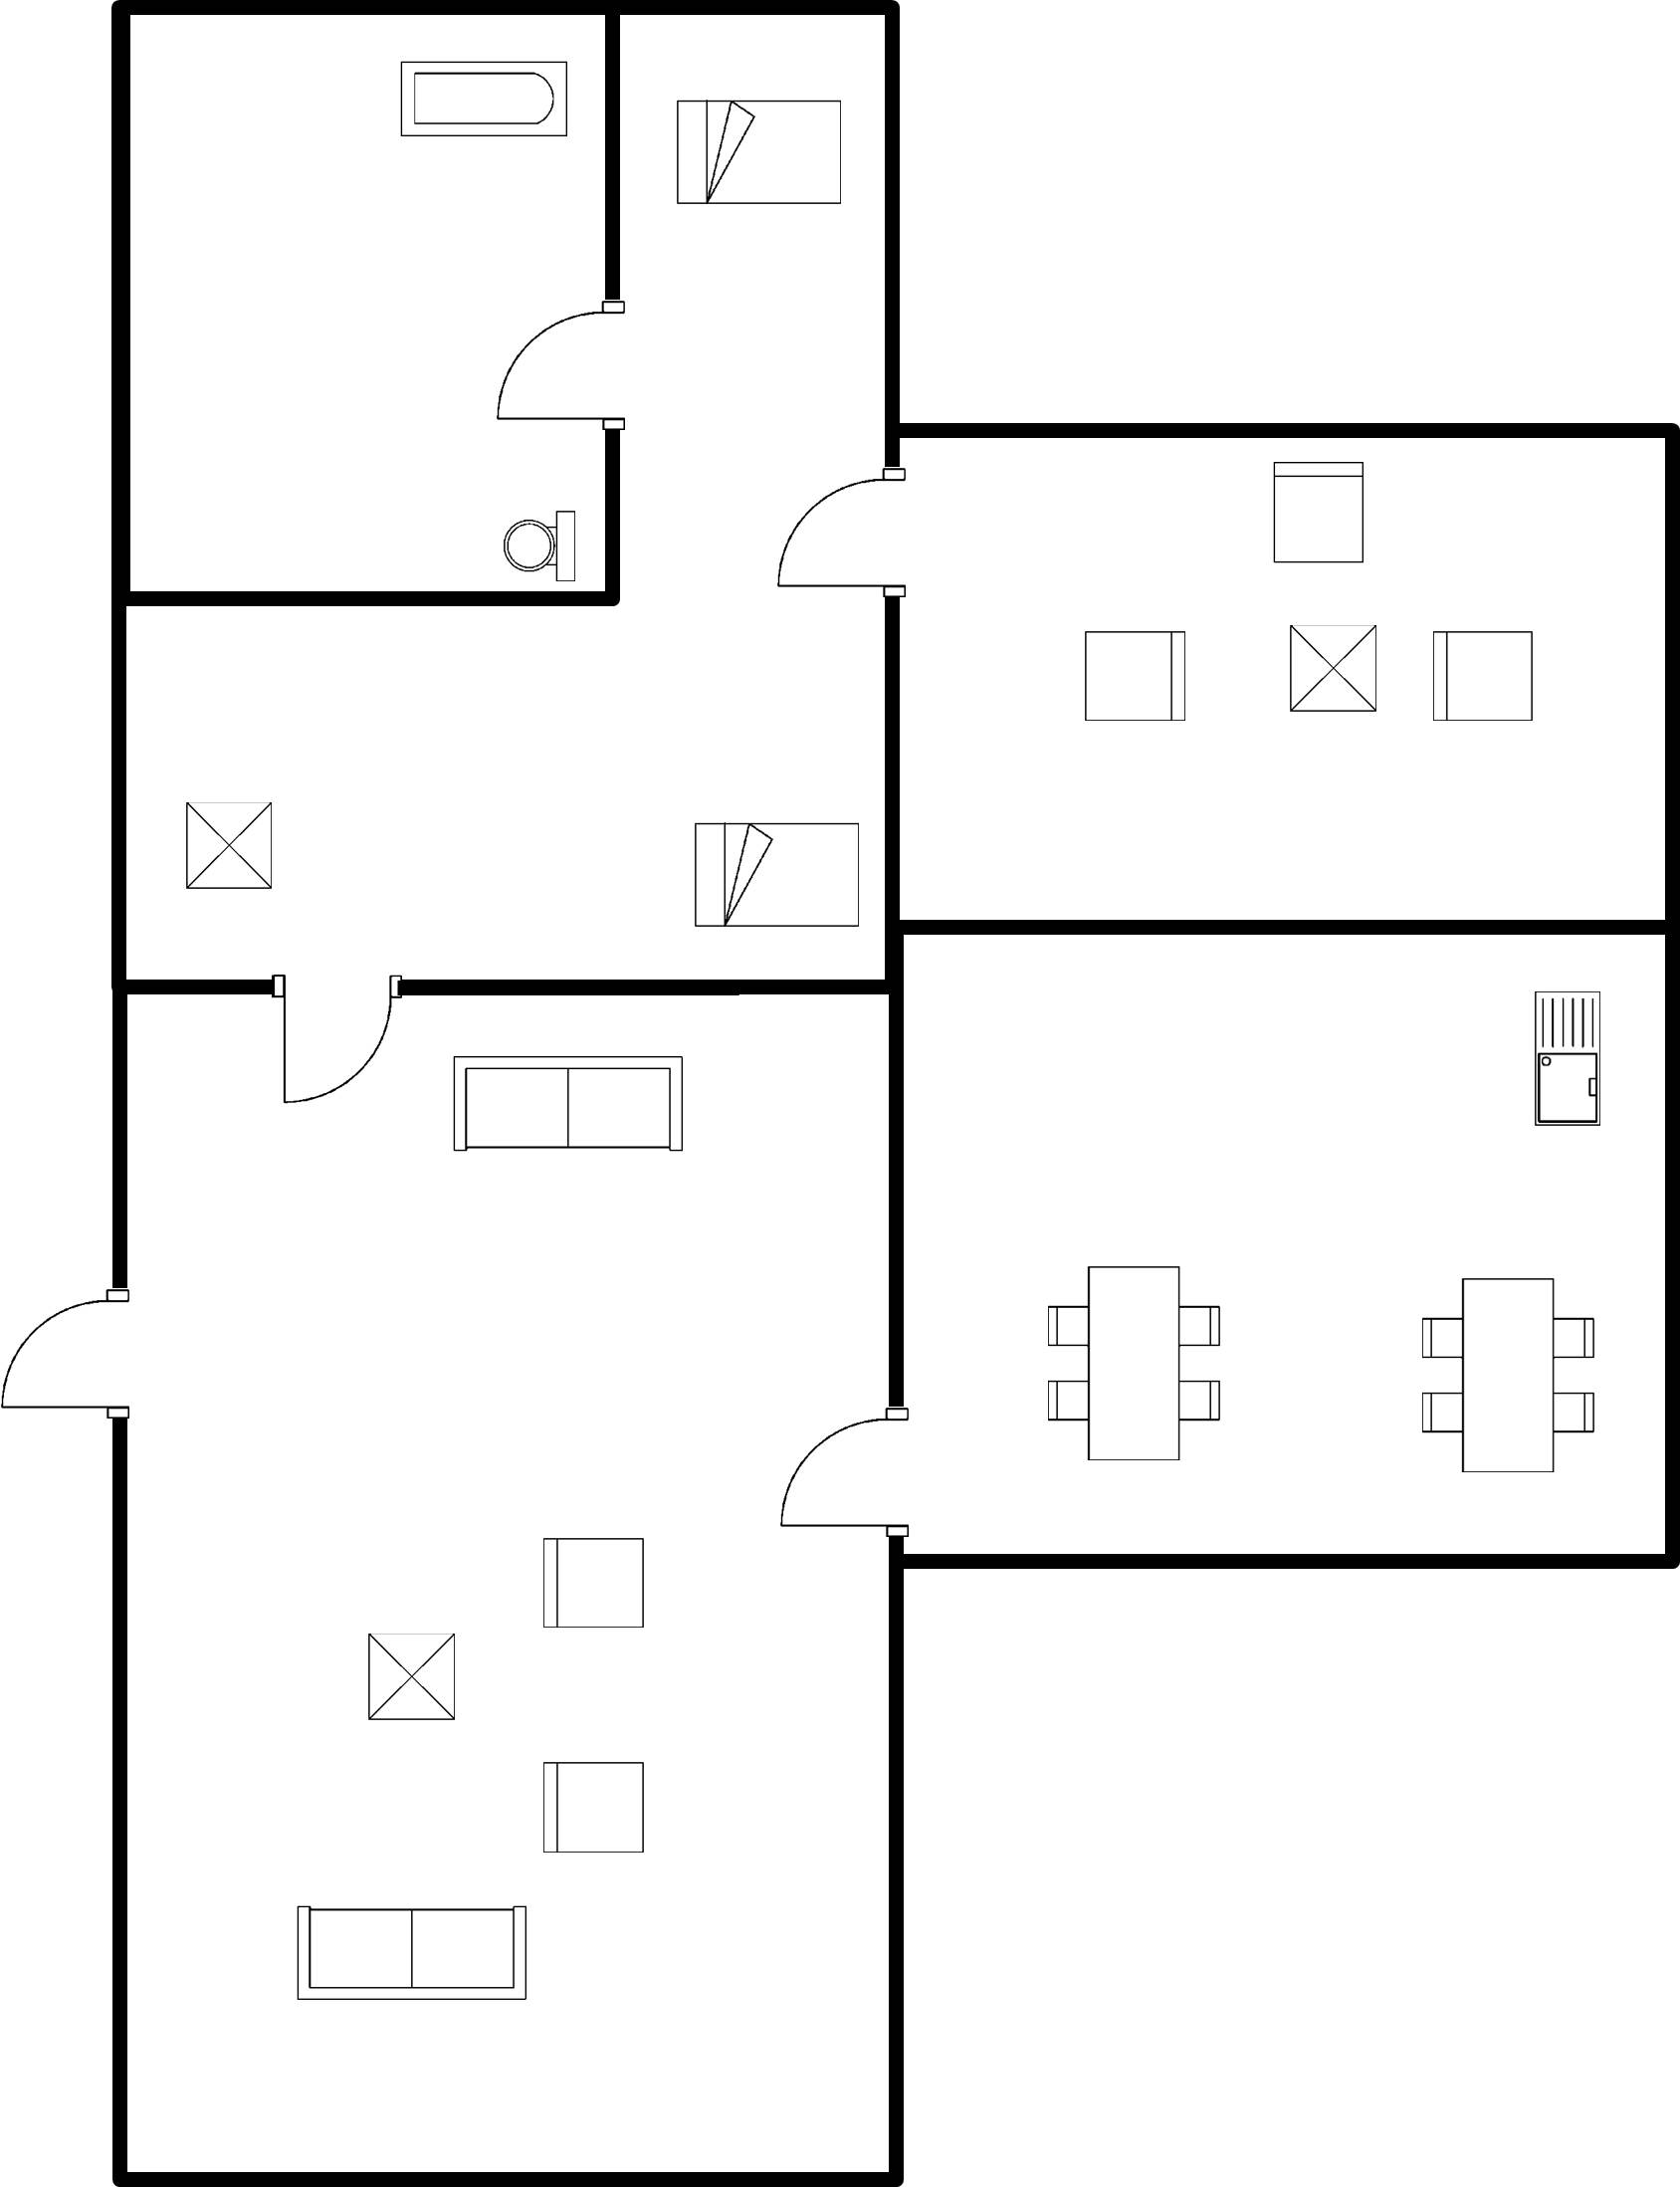bed: (662, 91, 856, 221), (683, 813, 869, 944)
coffee_table: (170, 781, 292, 913), (354, 1621, 473, 1738), (1276, 614, 1394, 725)
dining_table: (1403, 1263, 1609, 1491), (1027, 1246, 1230, 1473)
large_sink: (491, 498, 588, 584)
large_sofa: (441, 1038, 701, 1167), (283, 1895, 540, 2017)
sink: (1516, 976, 1620, 1143)
small_sofa: (529, 1521, 672, 1642), (1254, 448, 1379, 582), (1070, 616, 1200, 736), (529, 1751, 659, 1871), (1416, 616, 1547, 736)
tub: (382, 43, 579, 158)
